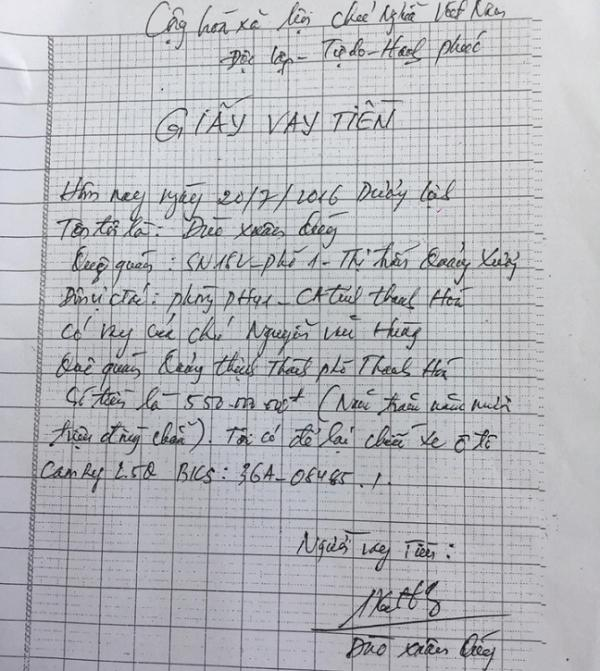text: (68, 240, 523, 290), (56, 174, 458, 224), (62, 382, 515, 426), (53, 346, 468, 394), (141, 0, 507, 53), (60, 311, 426, 360), (45, 417, 501, 456), (56, 282, 474, 320), (217, 28, 489, 79), (38, 459, 392, 497), (153, 92, 405, 145), (55, 208, 350, 252), (307, 577, 513, 635), (292, 526, 457, 574)
